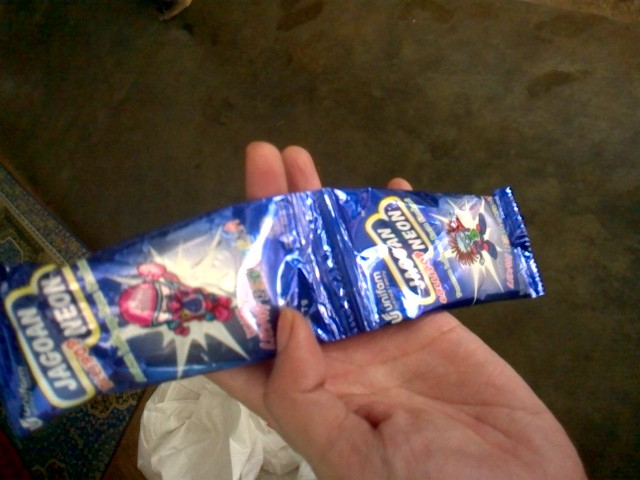jagoan neon: (1, 191, 353, 441), (309, 184, 545, 332)
